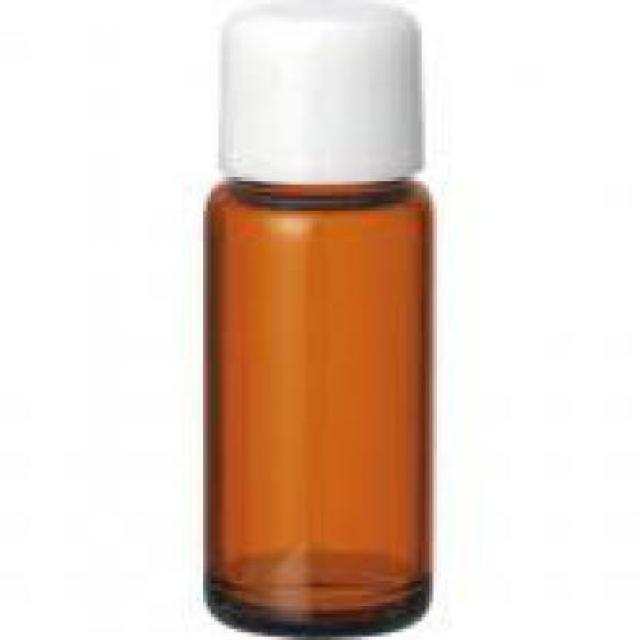kaca: (203, 177, 429, 637)
